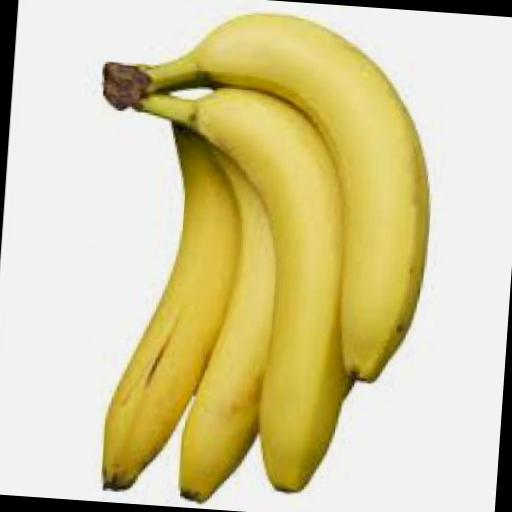biodegradable: (104, 4, 436, 382), (105, 80, 378, 494), (95, 106, 230, 493), (174, 123, 282, 508)
